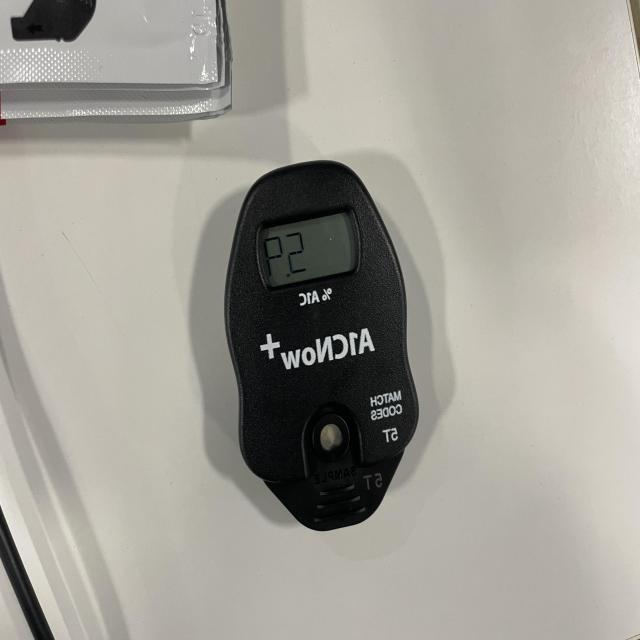hba1c: (224, 161, 423, 535)
